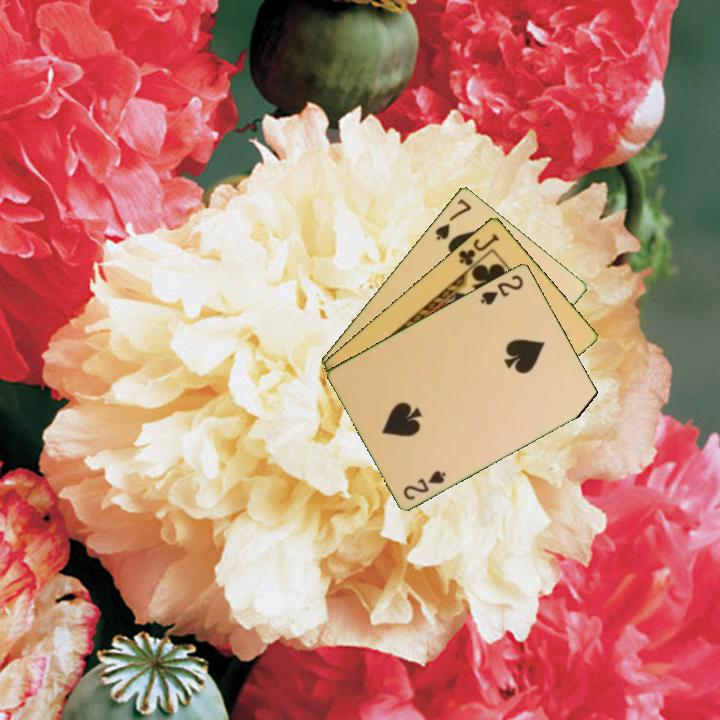2s: (476, 271, 526, 308), (400, 466, 449, 503)
7s: (431, 195, 474, 242)
Jc: (455, 229, 502, 269)
